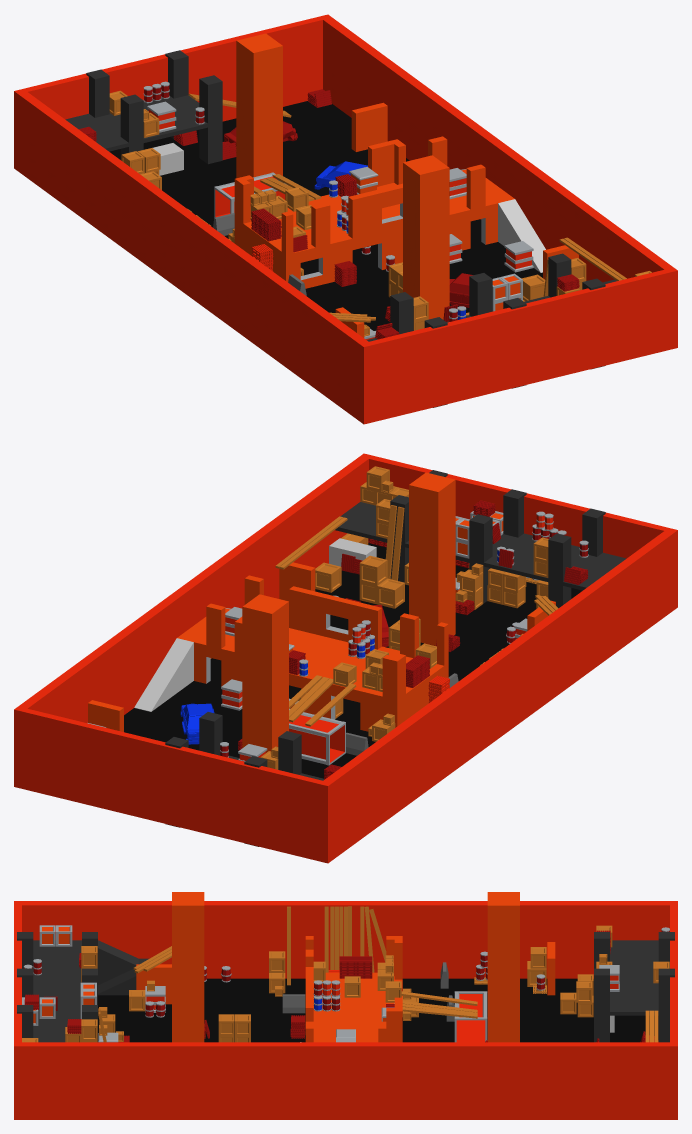
The model's file is map-scaled.obj.
The picture shows the model from 3 angles, top to bottom: view 1: azimuth 30°, elevation 25°; view 2: azimuth 150°, elevation 25°; view 3: azimuth 270°, elevation 25°; orthographic projection. The views are drawn at different scales.
Visible parts, largest first — view 1: floors, room, Plane, Cube.016, obj.048, obj.049, Cube.004, Cube.001, obj.004, Cube.005, BigBox.004, Cube.011 (+2 smaller); view 2: floors, room, Plane, Cube.004, obj.048, obj.049, Cube.016, Cube.002, Cube.005, obj.002, obj.004, Cube.017 (+4 smaller); view 3: floors, Plane, Cube.016, Cube.004, room, obj.048, obj.049, up2, Cube.005, Cube.030, obj.024, Cube.023 (+17 smaller).
Boxes of the visible parts, x1,y1,x2,y2 form: floors: (14,14,677,424); room: (234,136,514,288); Plane: (110,101,542,330); Cube.016: (65,50,222,164); obj.048: (403,155,449,319); obj.049: (236,33,282,178); Cube.004: (367,253,616,407); Cube.001: (498,199,545,272); obj.004: (351,102,387,151); Cube.005: (214,172,286,217); BigBox.004: (504,241,533,272); Cube.011: (153,143,183,175); floors: (14,453,677,863); room: (177,575,448,731); Plane: (124,543,581,778); Cube.004: (335,470,626,608); obj.048: (409,472,455,645); obj.049: (242,594,288,752); Cube.016: (165,712,323,846); Cube.002: (134,638,193,711); Cube.005: (289,709,345,765); obj.002: (279,562,315,601); obj.004: (88,700,123,731); Cube.017: (329,538,376,566); floors: (14,901,677,1119); Plane: (98,978,658,1042); Cube.016: (594,932,674,1042); Cube.004: (17,932,97,1042); room: (305,936,402,1042); obj.048: (172,892,204,1042); obj.049: (487,892,519,1042); up2: (98,940,148,995); Cube.005: (454,991,487,1042); Cube.030: (330,906,347,969); obj.024: (136,964,171,1004); Cube.023: (360,906,374,972).
Size of the model in its own units: 128 by 60.75 by 246.
